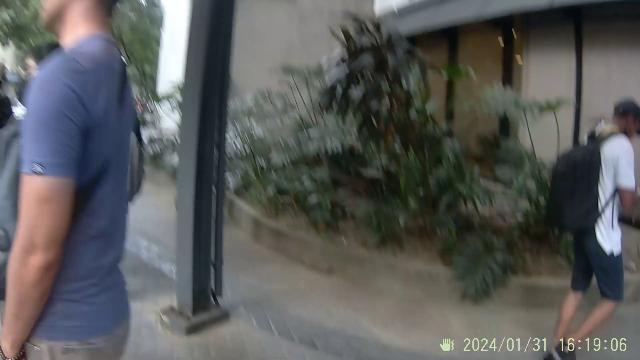utility_post: (158, 1, 234, 332)
